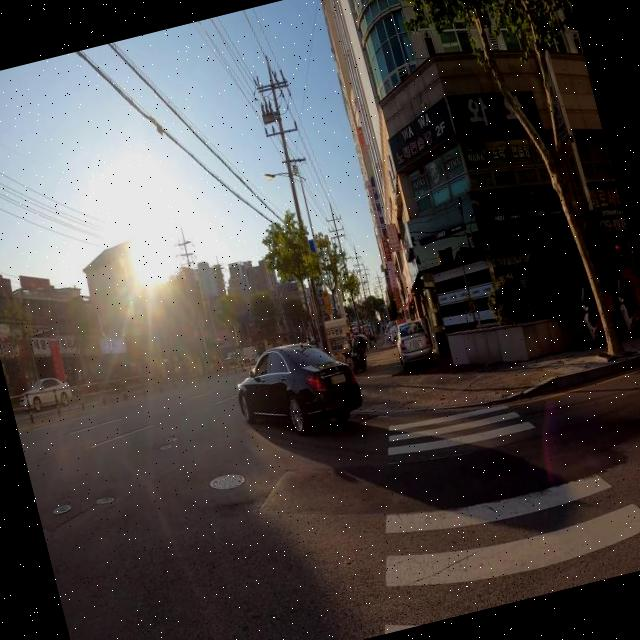crosswalk: (383, 399, 640, 634)
